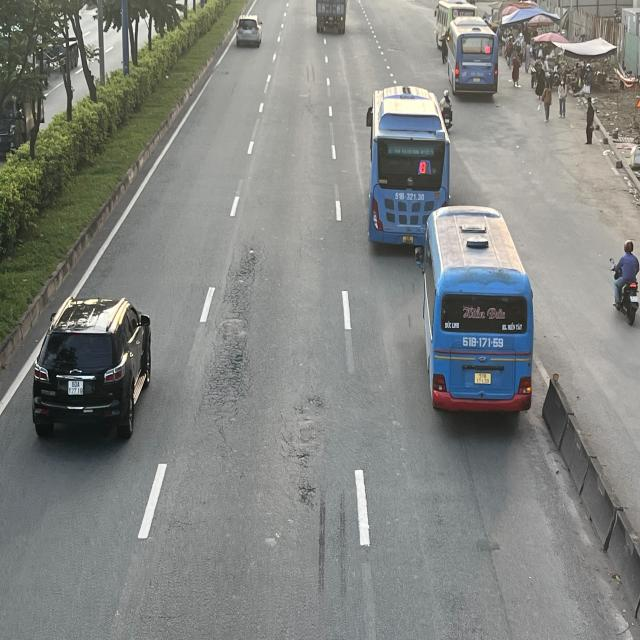car: (31, 295, 152, 440), (236, 15, 264, 50)
coach: (414, 206, 532, 417), (365, 85, 449, 249), (446, 19, 502, 98)
